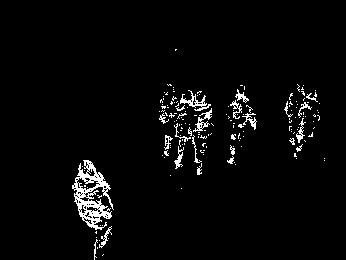person: (70, 159, 114, 260), (224, 82, 258, 168), (189, 89, 214, 177), (294, 86, 323, 159), (156, 80, 181, 164), (175, 87, 197, 170), (284, 80, 305, 145)
